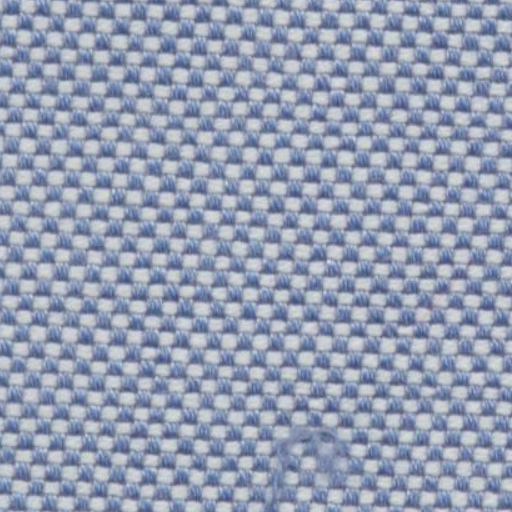DuanSha: (252, 406, 388, 503)
